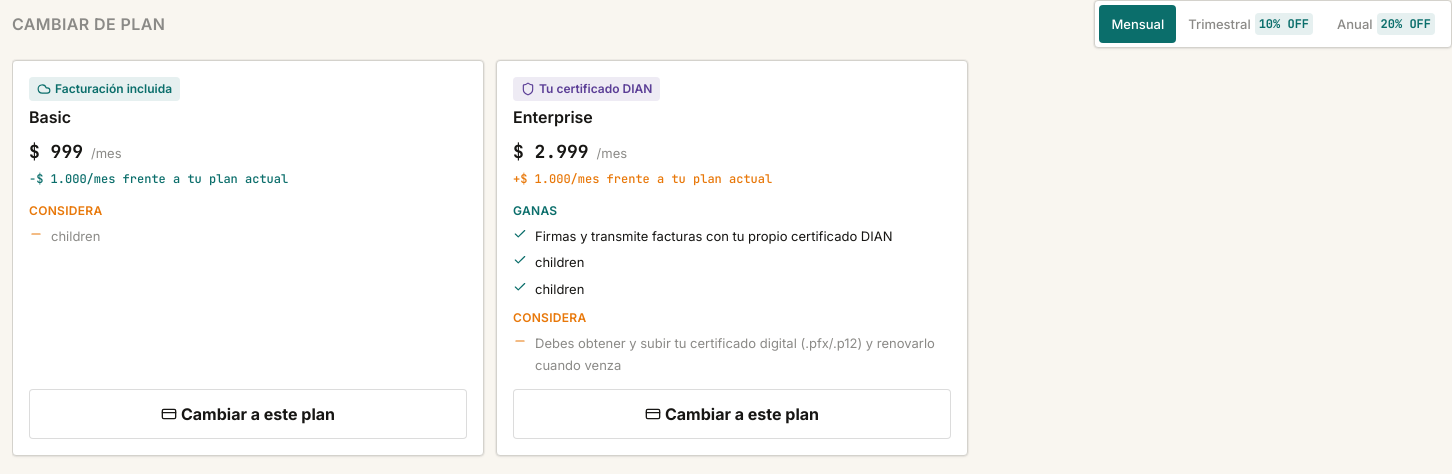
Test: SubscriptionPlansPanel › when the current plan is matchable › keeps the price delta on monthly bases while showing period pricing
What coordinates should you click on to do the following:
click the radio button labelled "Anual 20% OFF"
I would click on:
 (1386, 24)
Its box is left=1325, top=5, right=1447, bottom=43.
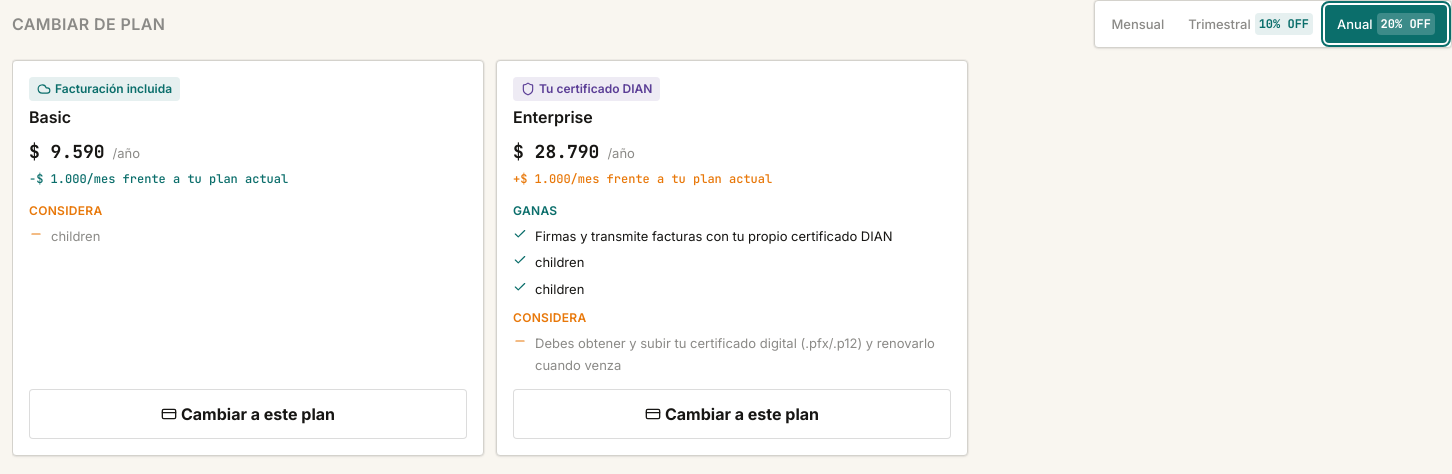
Check: the text "+$ 1.000/mes frente a tu plan actual" is shown, box left=513, top=171, right=772, bottom=187
Check: the text "$ 28.790" is shown, box left=513, top=141, right=599, bottom=164
